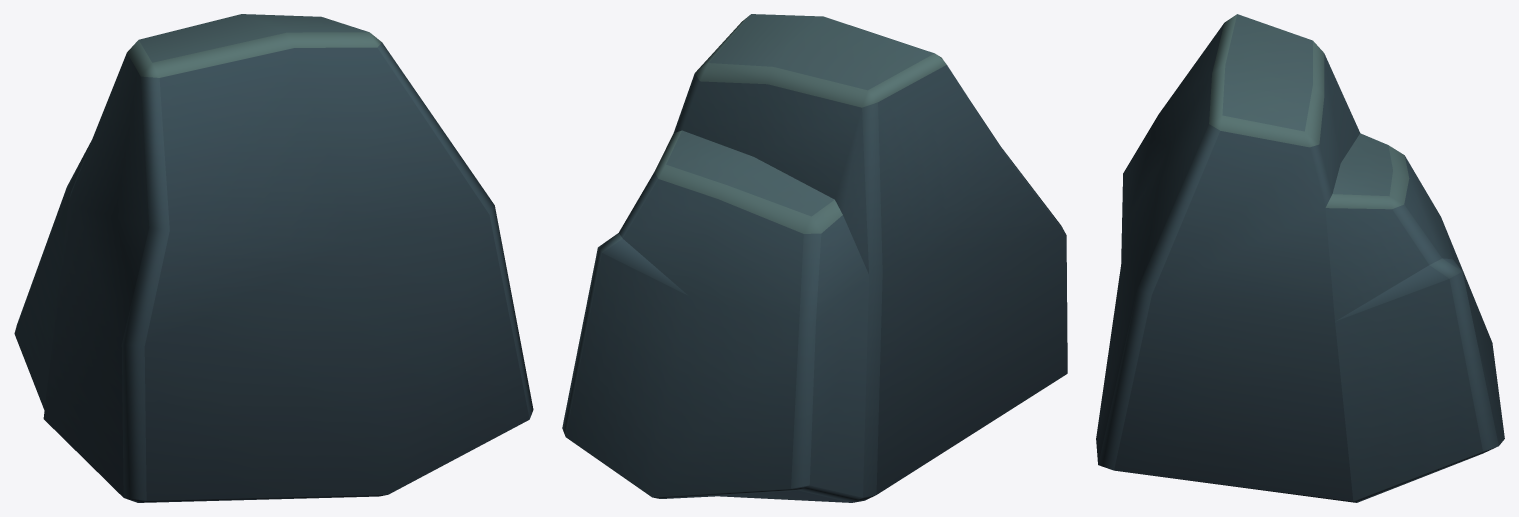
Rendered from rock_19.fbx.
3 views of the same model, side by side, from view 1: azimuth 30°, elevation 25°; view 2: azimuth 150°, elevation 25°; view 3: azimuth 270°, elevation 25° (orthographic). The views are drawn at different scales.
Parts seen in each view (by area): view 1: rock_19; view 2: rock_19; view 3: rock_19.
Boxes of the visible parts, x1,y1,x2,y2 form: rock_19: [14, 14, 533, 502]; rock_19: [562, 14, 1067, 502]; rock_19: [1096, 14, 1504, 502].
Bounding box in the file's own units: 243 × 272 × 248.
